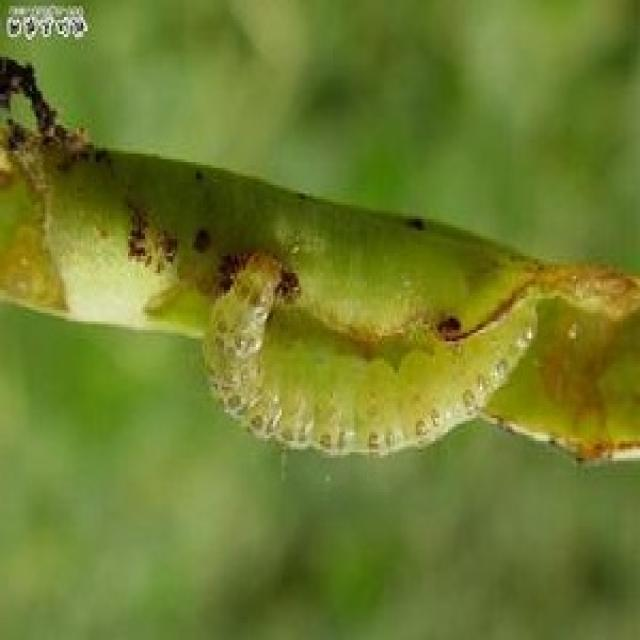peach borer: (209, 239, 544, 463)
